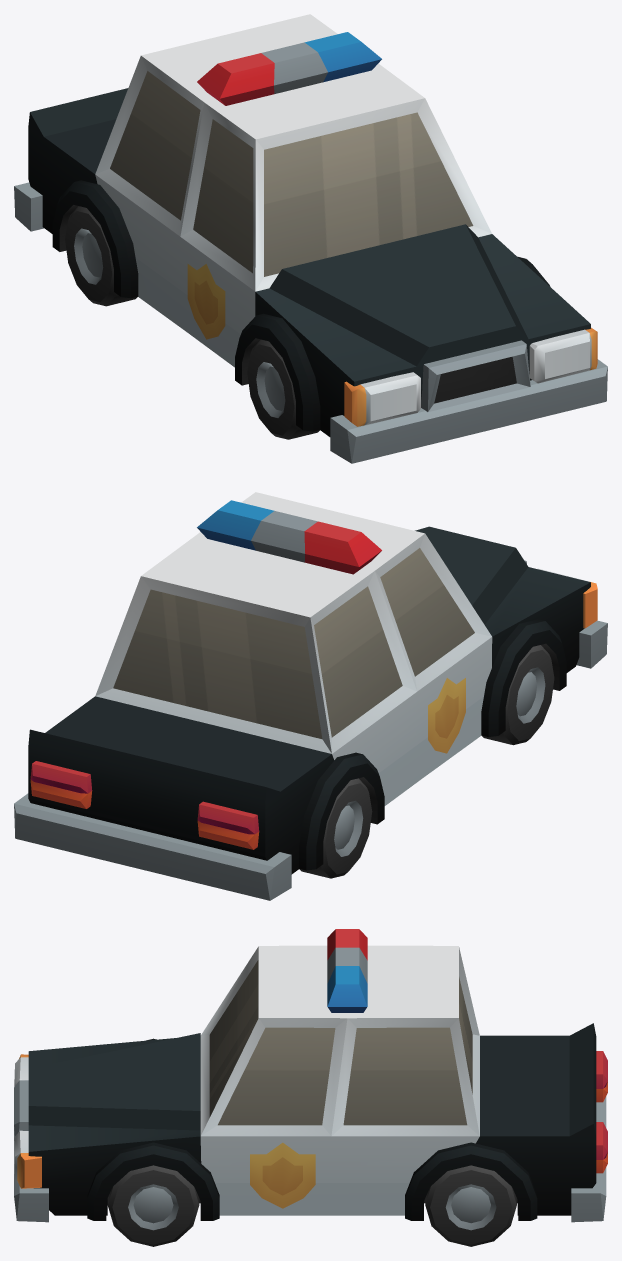
File: car_police.fbx
3 views of the same model, one above another, from view 1: azimuth 30°, elevation 25°; view 2: azimuth 150°, elevation 25°; view 3: azimuth 270°, elevation 25° (orthographic). The views are drawn at different scales.
Visible parts, largest first — view 1: car_police; view 2: car_police; view 3: car_police.
Boxes of the visible parts, left/top/right/bottom form: car_police: left=14, top=14, right=607, bottom=463; car_police: left=14, top=492, right=607, bottom=900; car_police: left=14, top=929, right=607, bottom=1246.
Bounding box in the file's own units: 41.9 × 41.26 × 93.81.
